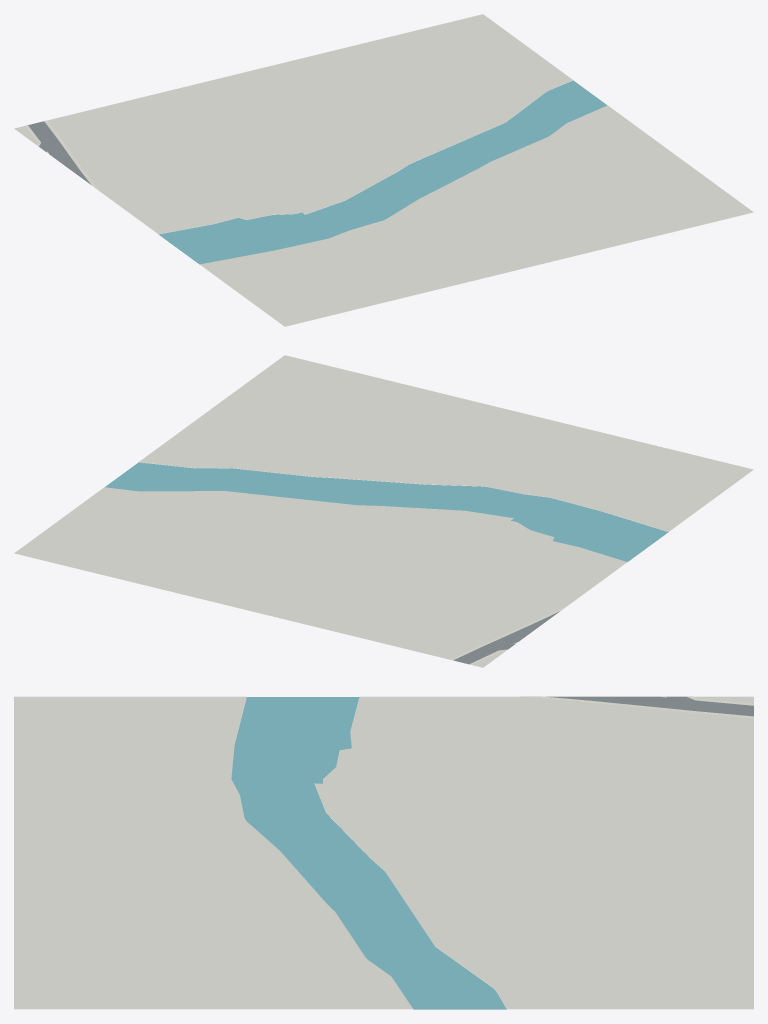
3 views of the same model, one above another, from view 1: azimuth 30°, elevation 25°; view 2: azimuth 150°, elevation 25°; view 3: azimuth 270°, elevation 25° (orthographic). The views are drawn at different scales.
Visible parts, largest first — view 1: city; view 2: city; view 3: city.
Part boxes in pixels (x1,y1,x2,y2): city: (14, 14, 753, 326); city: (14, 355, 753, 667); city: (14, 696, 753, 1009).
Bounding box in the file's own units: 500 × 0.4 × 500.
